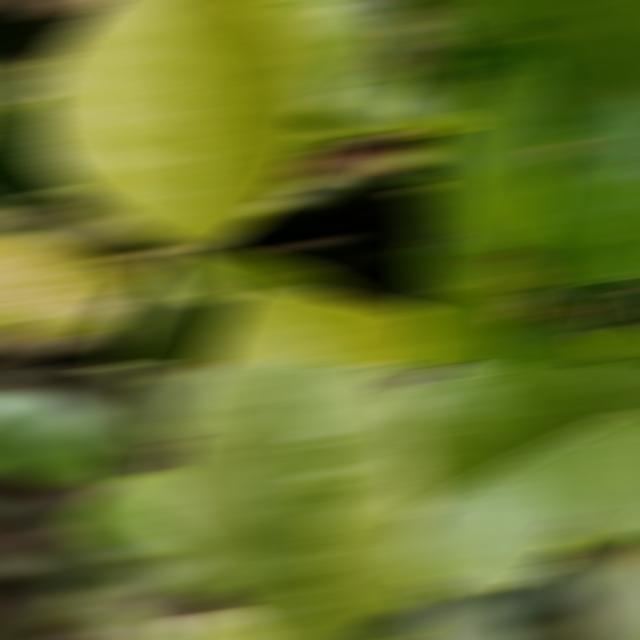Leaf: (25, 2, 324, 251), (160, 366, 430, 638), (410, 366, 640, 591), (439, 63, 556, 251), (530, 93, 640, 285), (195, 289, 434, 362), (106, 249, 248, 362), (447, 41, 594, 144), (520, 2, 640, 122), (0, 237, 148, 334), (0, 392, 129, 484), (70, 470, 200, 558), (410, 269, 511, 362), (293, 2, 397, 87), (303, 66, 434, 131), (410, 241, 493, 341), (410, 127, 466, 244), (0, 102, 74, 186), (208, 252, 348, 294), (577, 545, 640, 638), (493, 307, 593, 362), (166, 590, 272, 638), (436, 2, 542, 35), (506, 336, 597, 362), (410, 65, 453, 114), (485, 263, 530, 309), (615, 2, 640, 83), (601, 277, 640, 328), (426, 78, 474, 117), (588, 281, 632, 318), (410, 115, 472, 134), (410, 135, 444, 162)
